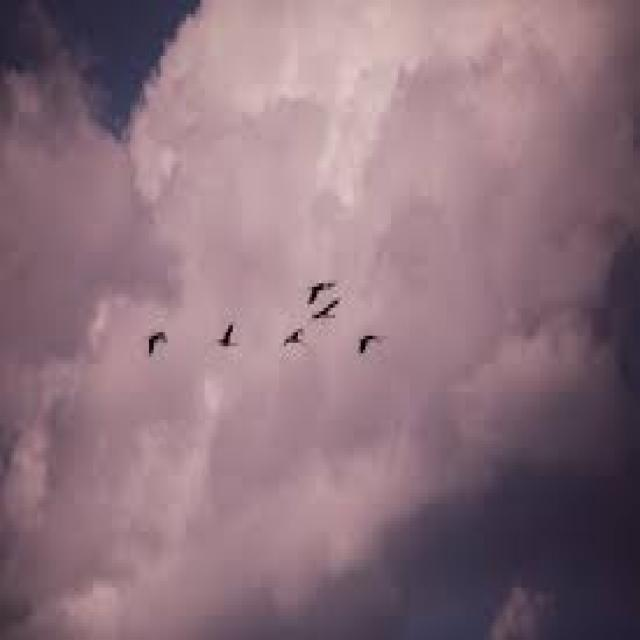bird: (126, 306, 177, 380), (202, 292, 249, 369), (299, 264, 346, 306), (280, 320, 316, 372), (360, 326, 396, 370), (312, 290, 342, 340)
